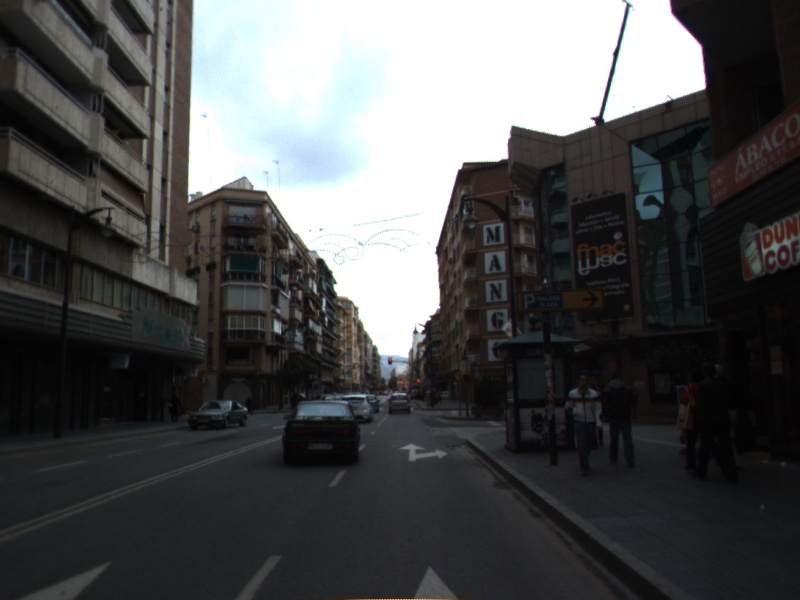STRAIGHT_RIGHT: (397, 441, 450, 464)
